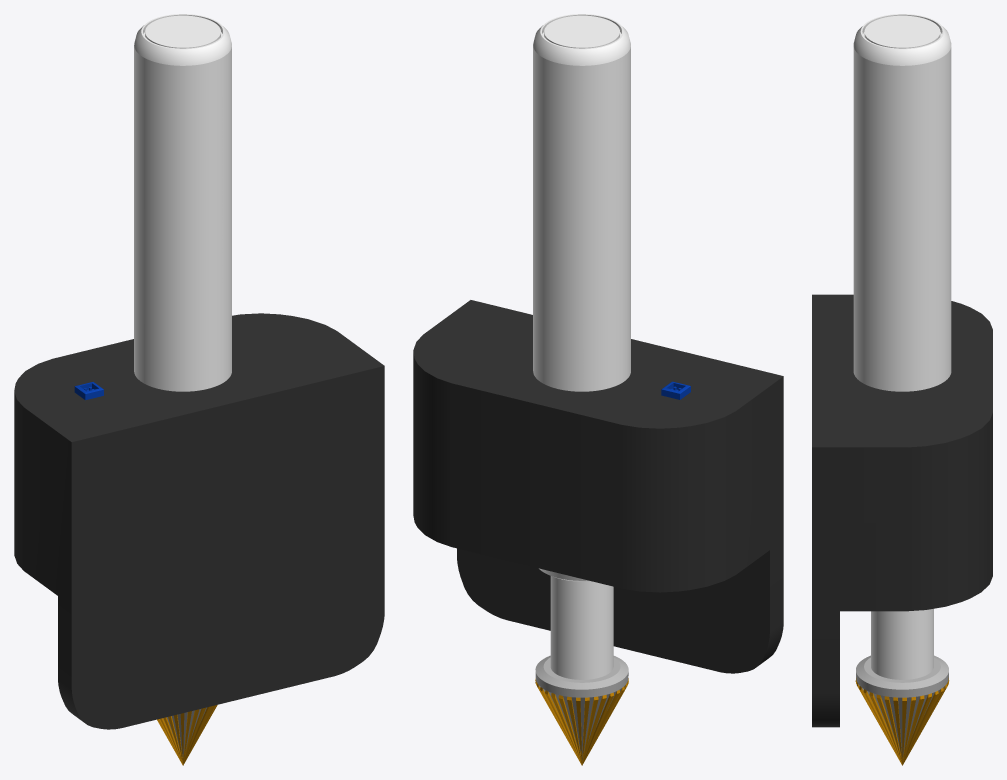
Rendered from GroundAnchor.gltf.
3 views of the same model, side by side, from view 1: azimuth 30°, elevation 25°; view 2: azimuth 150°, elevation 25°; view 3: azimuth 270°, elevation 25° (orthographic).
Visible parts, largest first — view 1: base, verrin; view 2: base, verrin; view 3: base, verrin.
Boxes of the visible parts, x1,y1,x2,y2 form: base: [14, 14, 384, 729]; verrin: [157, 705, 217, 765]; base: [413, 14, 783, 673]; verrin: [535, 576, 628, 765]; base: [812, 14, 992, 727]; verrin: [855, 608, 949, 765].
Bounding box in the file's own units: 1 × 2.24 × 0.5.
